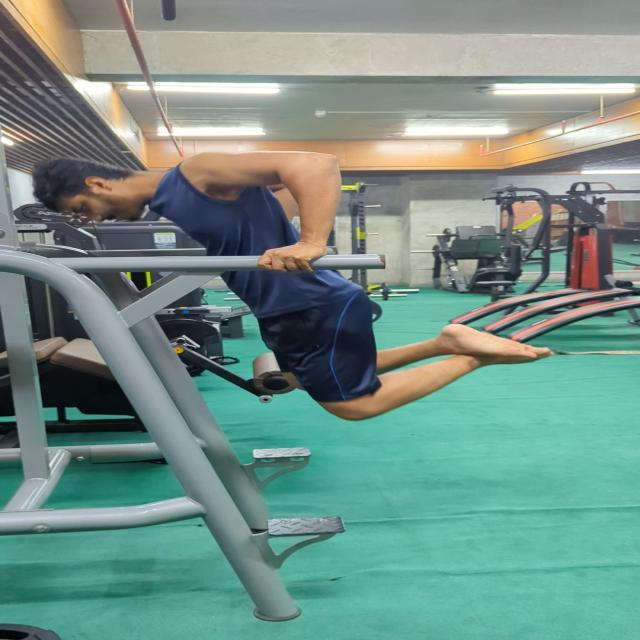Normal_Dips: (21, 142, 566, 426)
